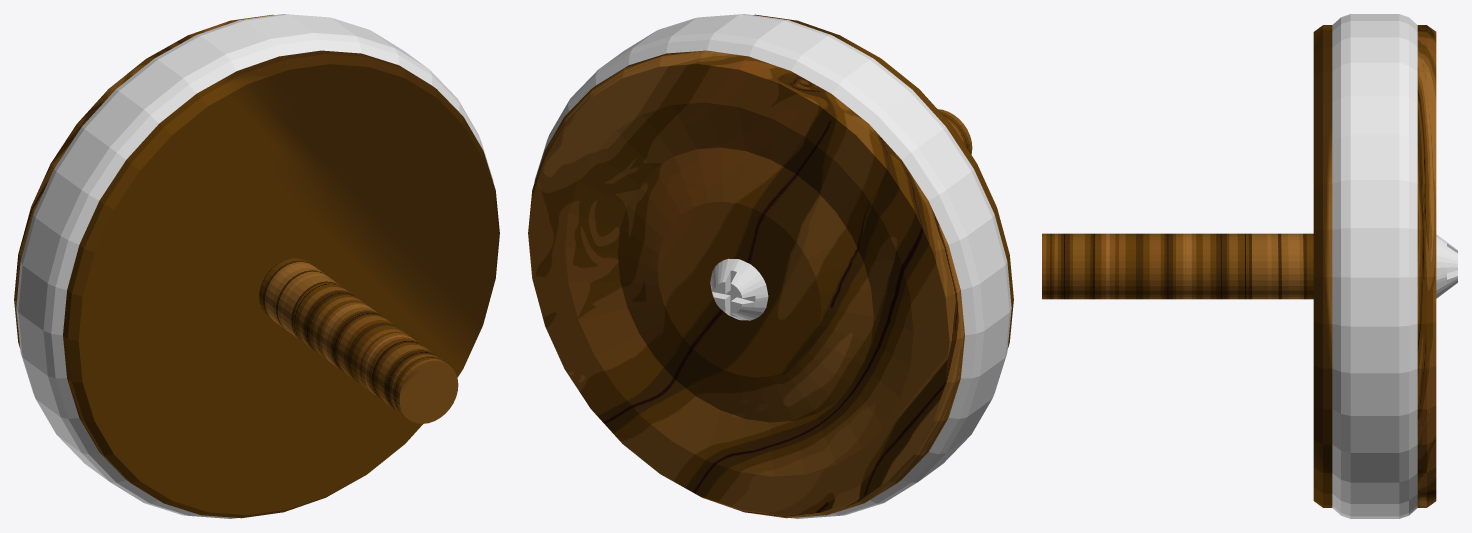
Rendered from Roue2.fbx.
3 renders of one model, left to right at view 1: azimuth 30°, elevation 25°; view 2: azimuth 150°, elevation 25°; view 3: azimuth 270°, elevation 25°, orthographic. The views are drawn at different scales.
Parts seen in each view (by area): view 1: Roue, Pneu, Avant; view 2: Avant, Pneu, Visse, Roue; view 3: Pneu, Roue, Avant, Visse.
Part boxes in pixels (box(x1,y1,x2,y2)): Roue: box(63, 50, 499, 518); Pneu: box(16, 14, 493, 518); Avant: box(14, 14, 274, 348); Avant: box(528, 50, 964, 518); Pneu: box(534, 14, 1011, 518); Visse: box(710, 258, 768, 320); Roue: box(753, 14, 1013, 348); Pneu: box(1332, 14, 1417, 518); Roue: box(1042, 25, 1332, 507); Avant: box(1417, 25, 1436, 507); Visse: box(1436, 234, 1457, 298).
Size of the model in its own units: 209 by 209 by 172.
